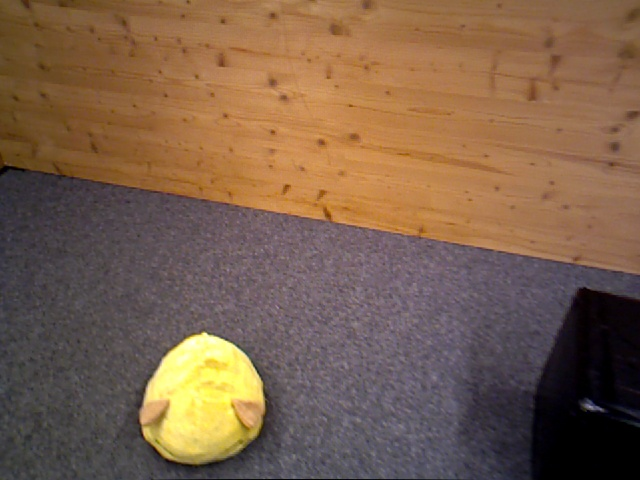grasp: (138, 333, 266, 467)
push: (527, 288, 640, 478)
